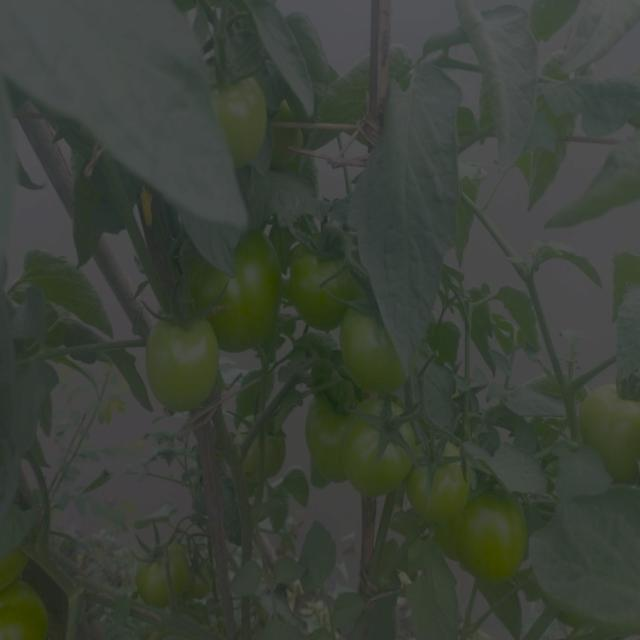tomato: (189, 246, 288, 340), (450, 483, 534, 591), (348, 389, 427, 500), (138, 321, 234, 401), (329, 295, 406, 390), (309, 381, 367, 494), (215, 67, 275, 164), (283, 241, 353, 322), (588, 377, 640, 483), (407, 442, 471, 519), (235, 413, 290, 475), (173, 534, 217, 601), (8, 580, 52, 640), (136, 551, 174, 609)
